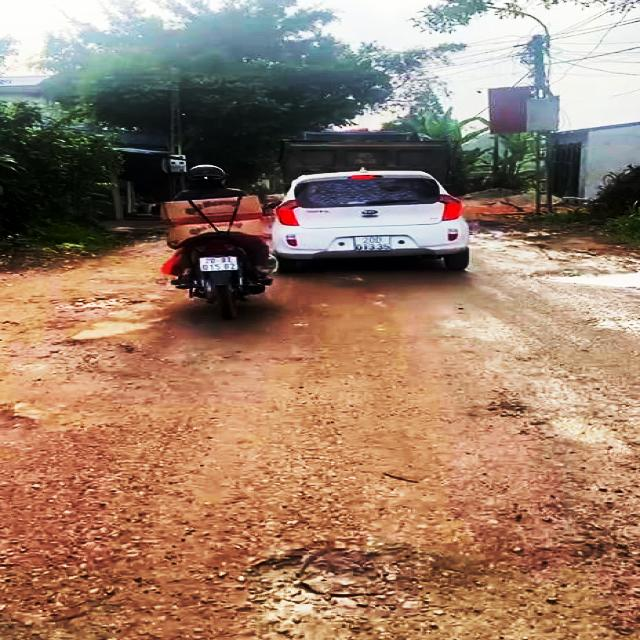pothole: (236, 543, 419, 640), (50, 333, 134, 376), (527, 266, 640, 290), (64, 294, 142, 310)
